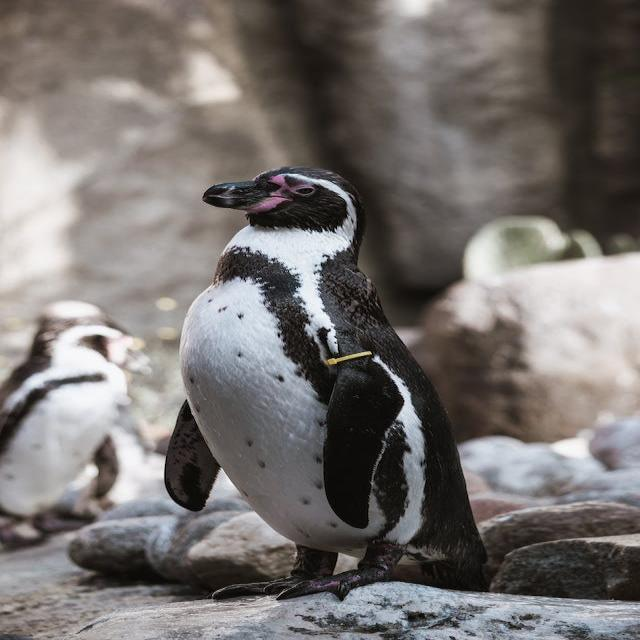Penguins: (160, 150, 512, 598)
